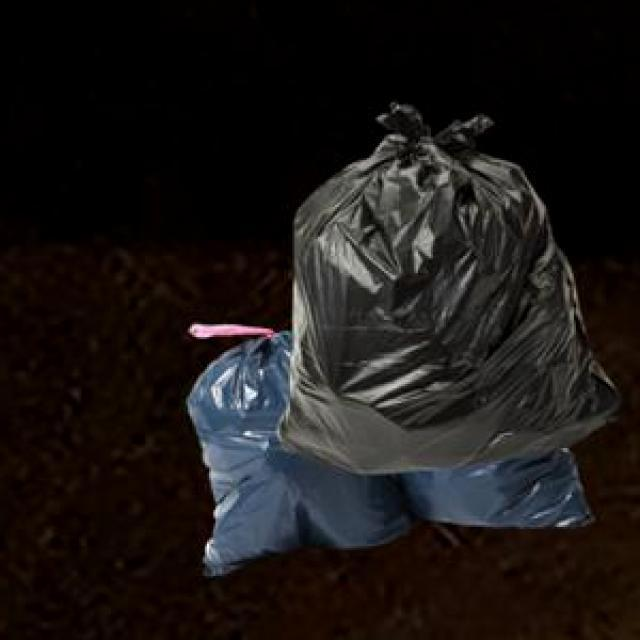Trashbag: (277, 105, 625, 477)
